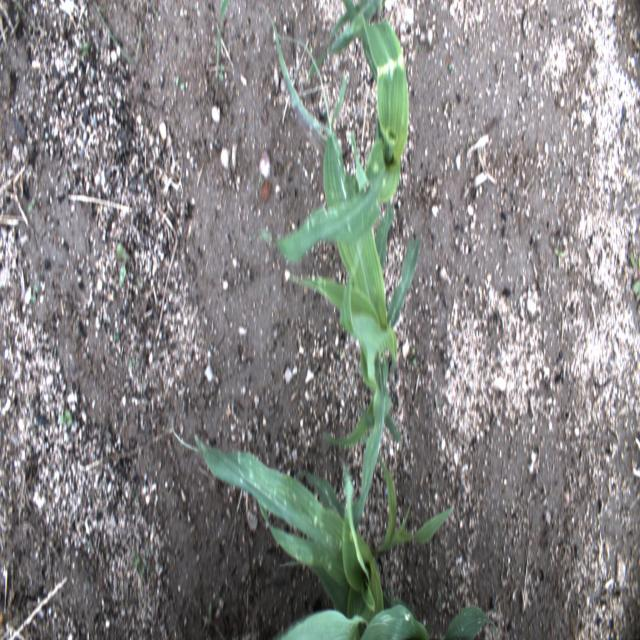crop: (264, 7, 422, 529), (193, 431, 497, 639), (260, 0, 410, 267)
weed: (211, 0, 229, 90), (111, 236, 132, 292), (54, 399, 76, 437), (131, 550, 152, 582), (626, 247, 638, 301), (172, 71, 188, 103), (549, 240, 566, 269), (20, 188, 38, 214), (26, 276, 40, 308), (78, 34, 93, 60), (430, 384, 442, 412), (202, 602, 218, 622), (410, 344, 419, 374)
